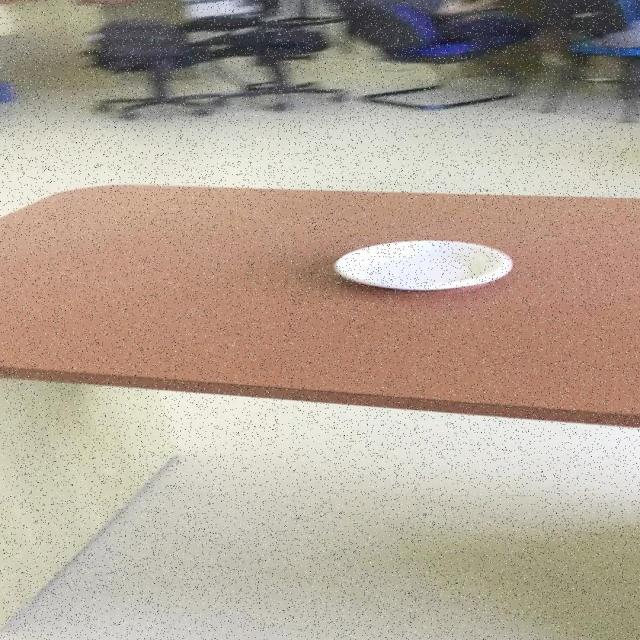Plate: (332, 238, 512, 290)
